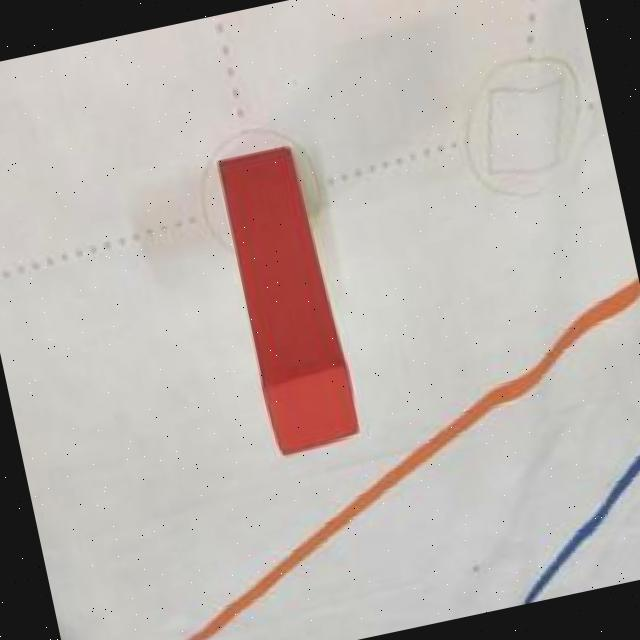redbox: (213, 142, 354, 454)
